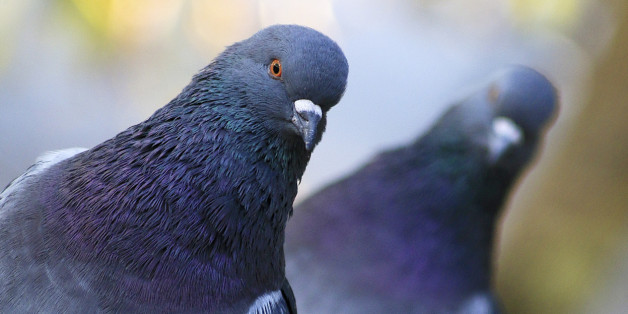pheasant: (6, 24, 351, 309), (276, 65, 560, 306)
